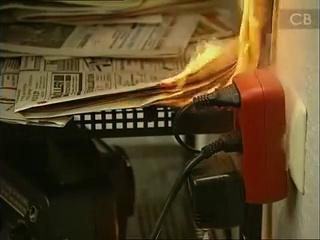Fire: (112, 1, 262, 118)
